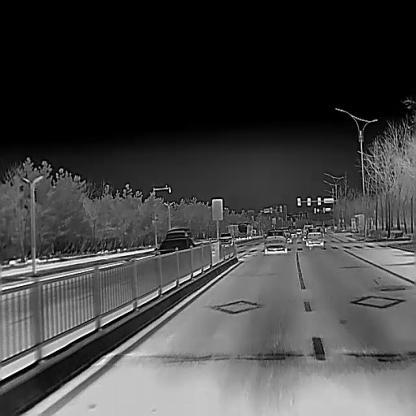car: (153, 226, 195, 272), (263, 229, 288, 255), (305, 227, 323, 247), (237, 221, 253, 239), (217, 231, 235, 246), (302, 222, 313, 240), (279, 228, 292, 242), (288, 225, 297, 237), (315, 224, 326, 233), (295, 227, 302, 235)
